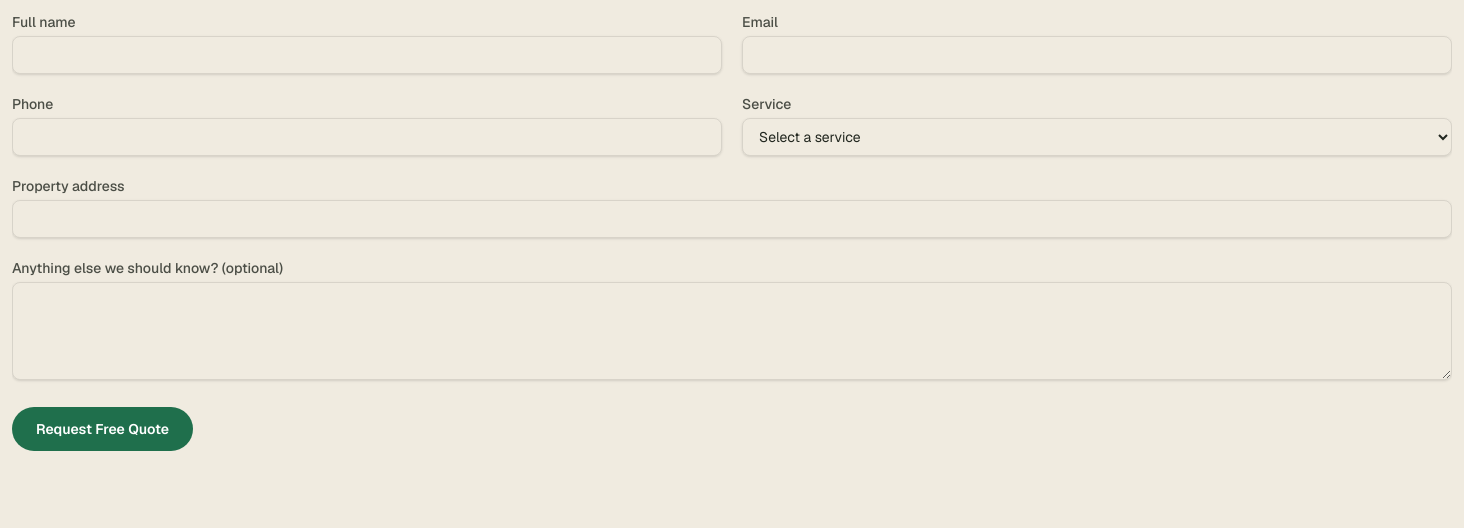
Scenario: QuoteForm › shows server-side field errors on failure
This screenshot has width=1464, height=528.
In the field labelled "Full name": coordinates (367, 55) x1=12 y1=36 x2=722 y2=74, type "Jane Doe"
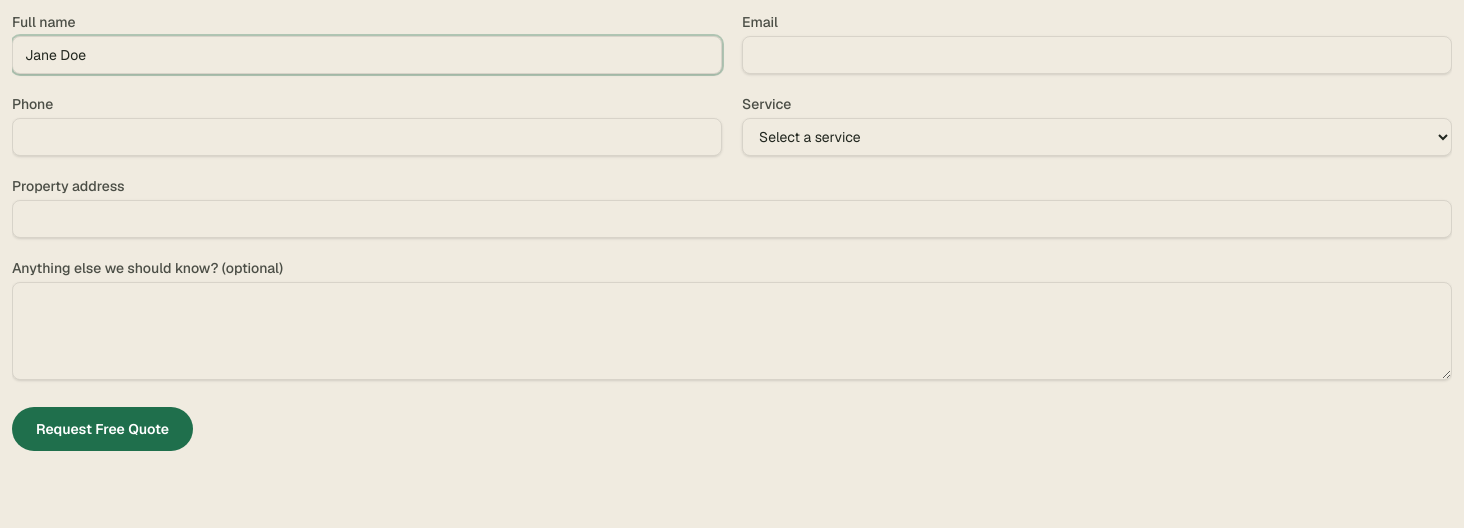
In the field labelled "Email": coordinates (1097, 55) x1=742 y1=36 x2=1452 y2=74, type "jane@example.com"
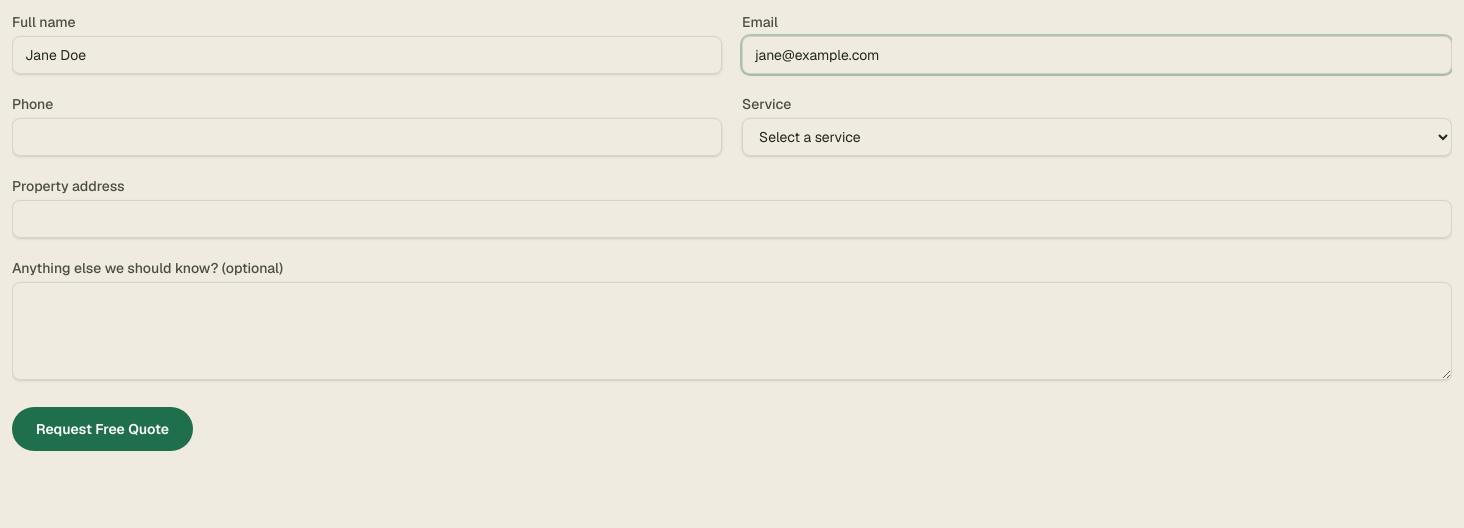
In the field labelled "Phone": coordinates (367, 137) x1=12 y1=118 x2=722 y2=156, type "416-555-0100"
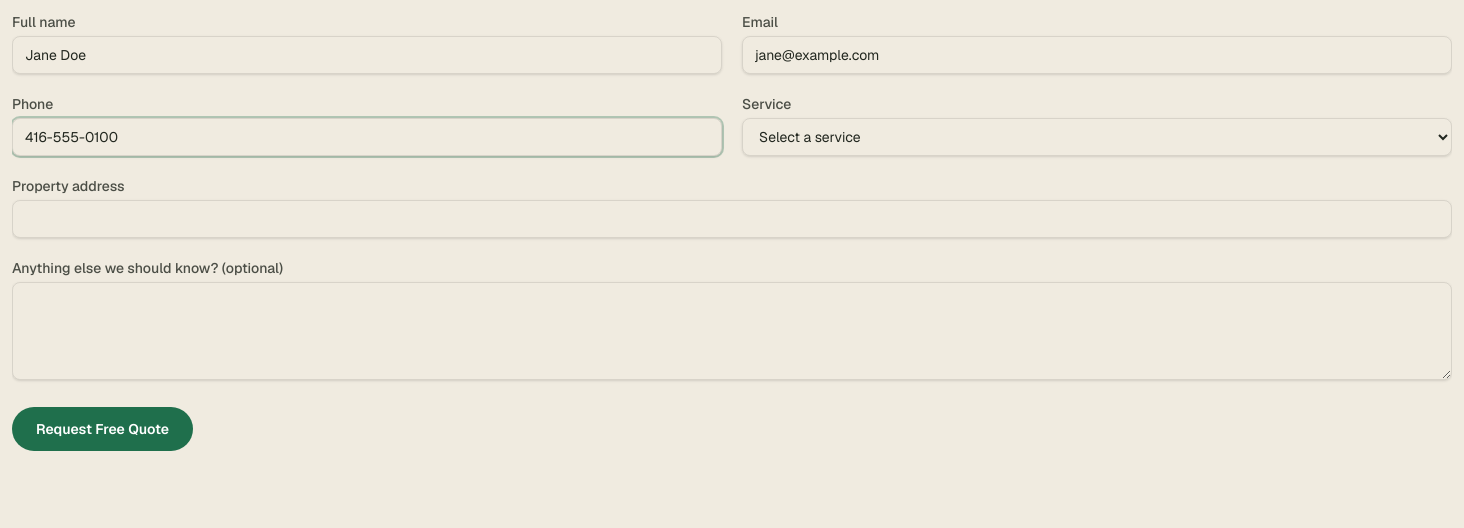
Select "Lawn Care & Landscaping" in the dropdown labelled "Service": coordinates (1097, 137) x1=742 y1=118 x2=1452 y2=156
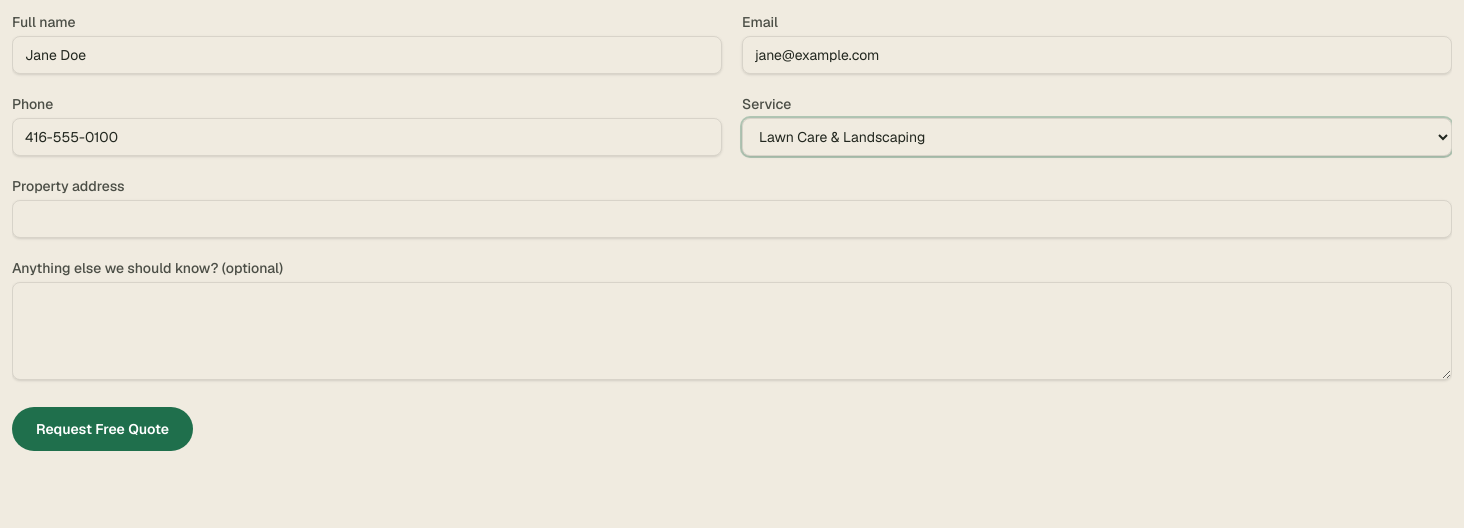
In the field labelled "Property address": coordinates (732, 219) x1=12 y1=200 x2=1452 y2=238, type "123 Main St, Toronto, ON"
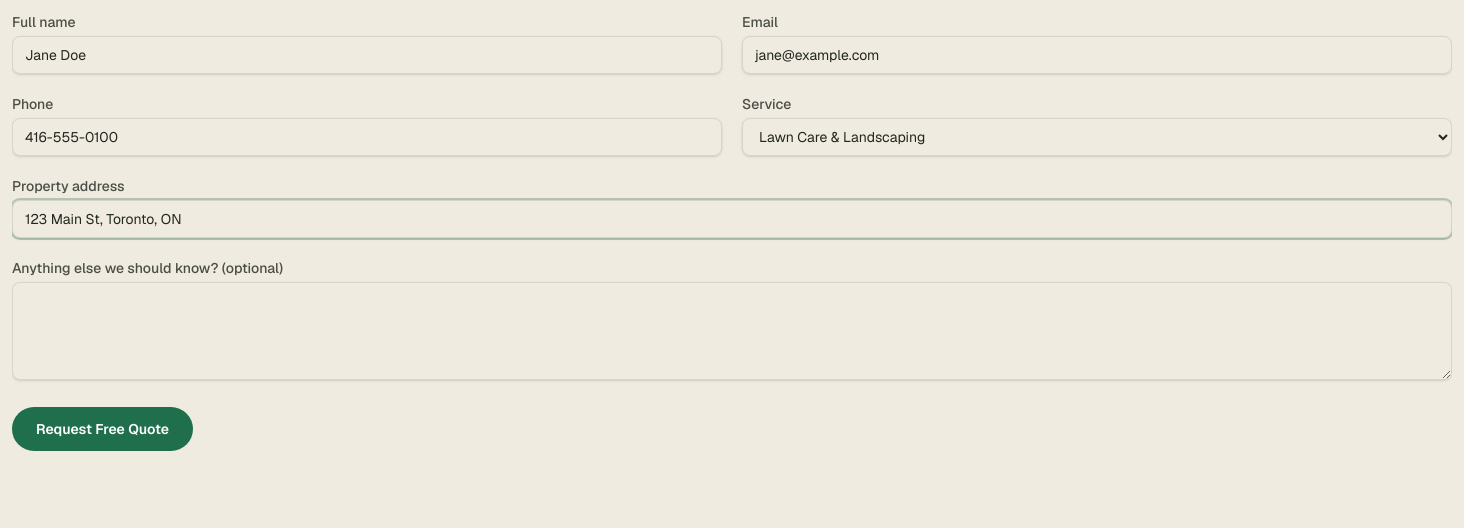
Click the button "Request Free Quote": coordinates (103, 429) x1=12 y1=407 x2=193 y2=451
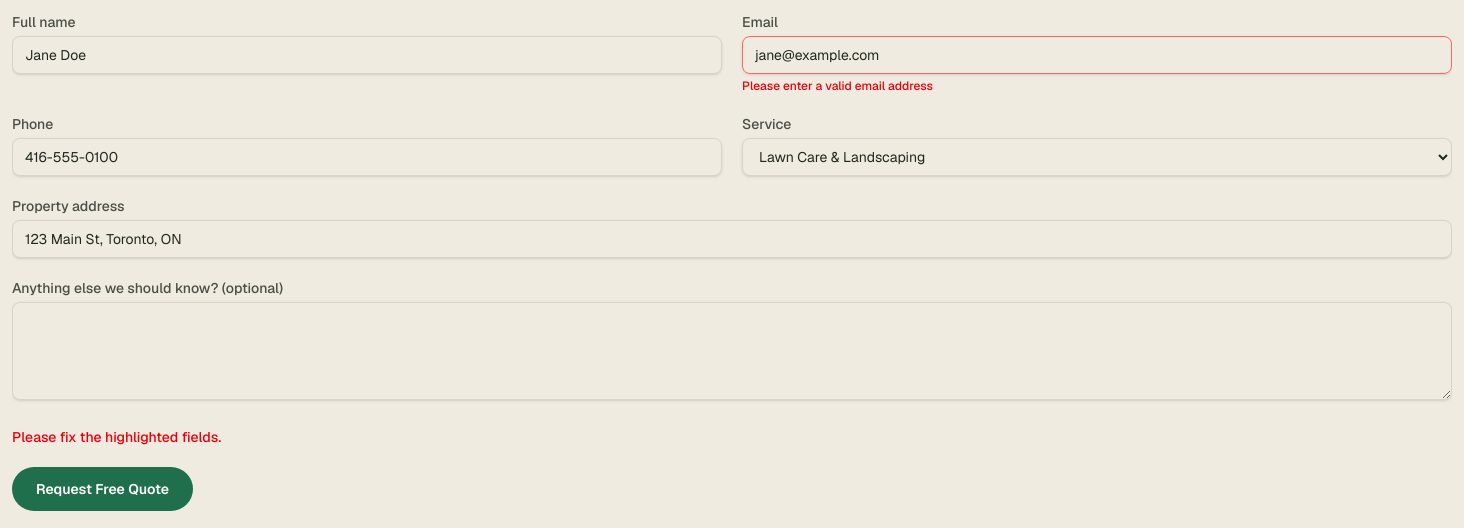
Result: the text "Please enter a valid email address" is shown at x1=742 y1=78 x2=933 y2=94
